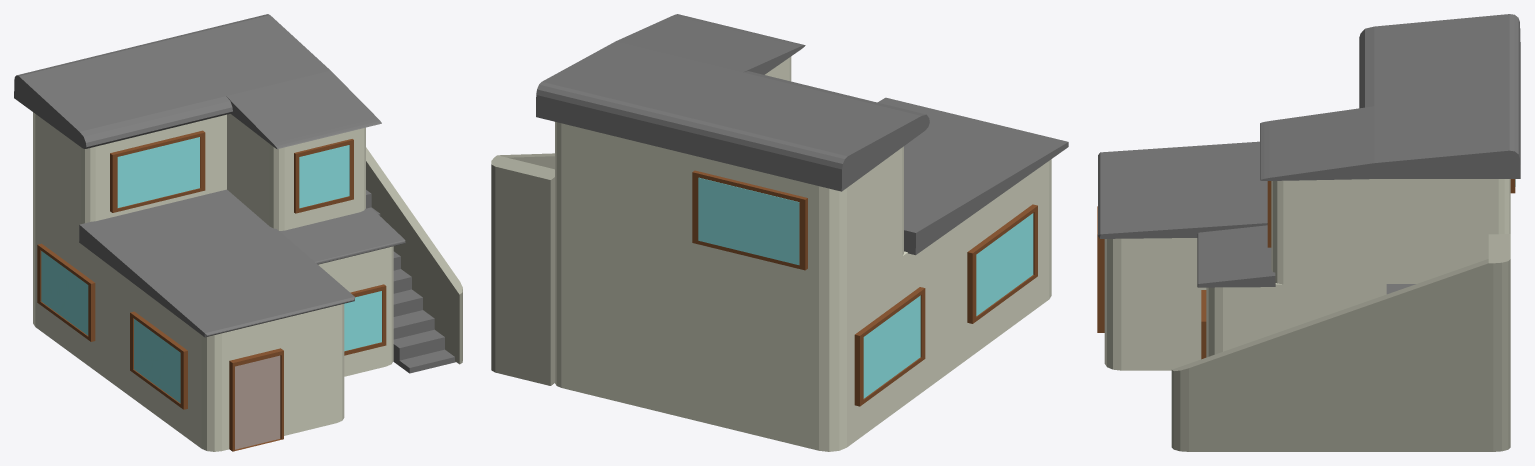
File: Cheap_House.fbx
The picture shows the model from 3 angles, left to right: view 1: azimuth 30°, elevation 25°; view 2: azimuth 150°, elevation 25°; view 3: azimuth 270°, elevation 25°; orthographic projection. The views are drawn at different scales.
Parts seen in each view (by area): view 1: Body, TopRoof, FrontRoof, Cube, LeftWindow, Stairs, RightRoof, Door, RightWindow, LeftWindow.002, LeftWindow.001, RightWindow.001 (+6 smaller); view 2: Body, TopRoof, Cube, FrontRoof, LeftWindow.003, LeftWindow.002, LeftWindow.001, LeftWindowFrame.003, LeftWindowFrame.002, LeftWindowFrame.001; view 3: Cube, Body, TopRoof, FrontRoof, RightRoof, DoorFrame.
Boxes of the visible parts, <box> form: Body: <box>33,112,393,451</box>; TopRoof: <box>14,14,381,148</box>; FrontRoof: <box>79,189,354,337</box>; Cube: <box>366,147,462,364</box>; LeftWindow: <box>117,137,199,207</box>; Stairs: <box>366,190,455,373</box>; RightRoof: <box>279,207,405,264</box>; Door: <box>235,355,280,449</box>; RightWindow: <box>299,145,349,208</box>; LeftWindow.002: <box>41,251,88,335</box>; LeftWindow.001: <box>134,319,180,403</box>; RightWindow.001: <box>344,291,381,351</box>; Body: <box>555,56,1051,451</box>; TopRoof: <box>536,14,929,191</box>; Cube: <box>491,153,554,385</box>; FrontRoof: <box>877,97,1068,255</box>; LeftWindow.003: <box>698,177,799,264</box>; LeftWindow.002: <box>863,295,920,398</box>; LeftWindow.001: <box>976,213,1033,315</box>; LeftWindowFrame.003: <box>692,170,807,270</box>; LeftWindowFrame.002: <box>854,287,925,406</box>; LeftWindowFrame.001: <box>967,204,1037,323</box>; Cube: <box>1171,234,1510,451</box>; Body: <box>1104,179,1510,370</box>; TopRoof: <box>1260,14,1520,180</box>; FrontRoof: <box>1098,141,1267,238</box>; RightRoof: <box>1197,225,1275,287</box>; DoorFrame: <box>1097,206,1104,332</box>.
Size of the model in its own units: 630 by 505 by 697.
